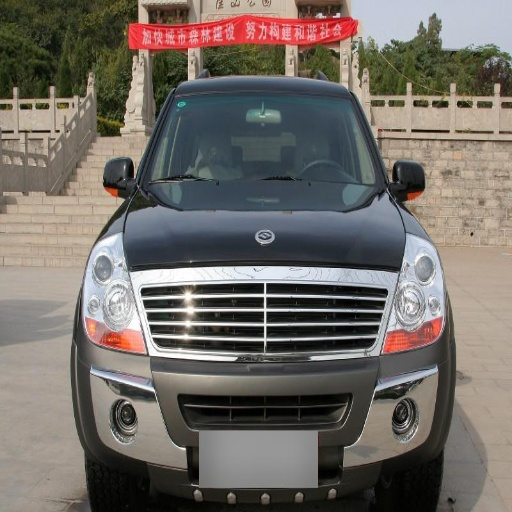back_right_light: (76, 328, 450, 511)
front_bumper: (142, 93, 383, 191)
front_left_door: (384, 243, 446, 351)
front_right_door: (81, 240, 143, 353)
front_right_light: (127, 180, 406, 351)
hood: (389, 161, 426, 196)
left_mirror: (102, 158, 134, 196)
trunk: (86, 455, 148, 511), (378, 457, 441, 510)
